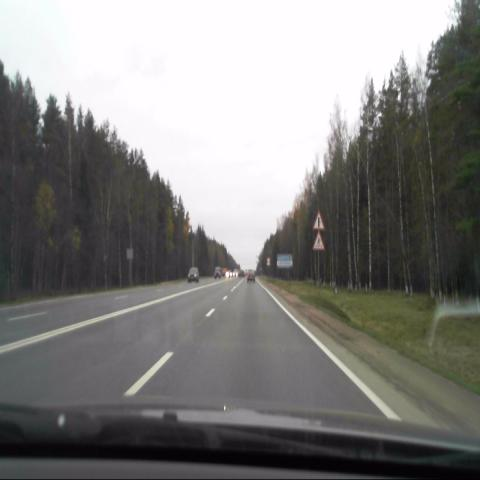1_22: (312, 231, 325, 250)
